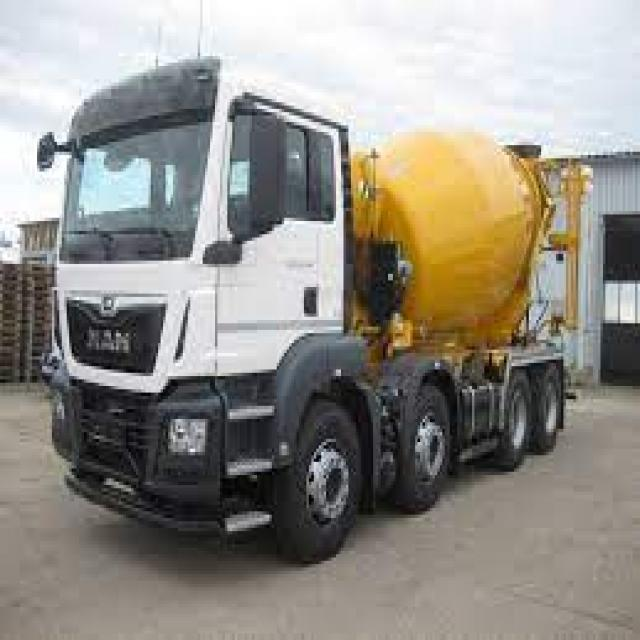Mixer Truck: (37, 51, 594, 566)
